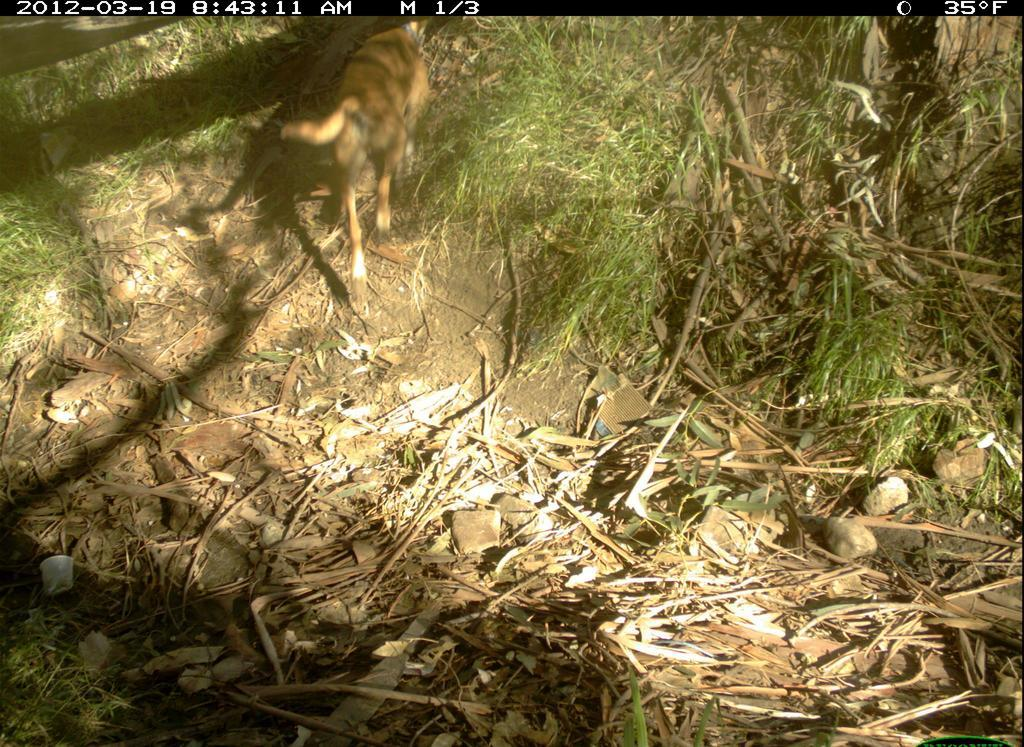dog: (267, 20, 446, 309)
